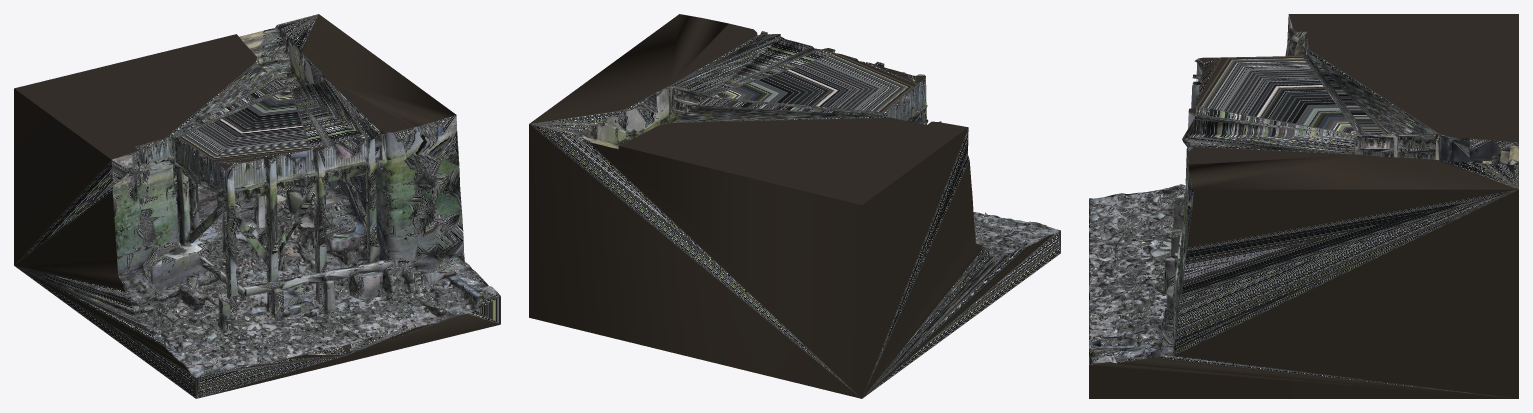
The model's file is w1_stairs.glb.
3 views of the same model, side by side, from view 1: azimuth 30°, elevation 25°; view 2: azimuth 150°, elevation 25°; view 3: azimuth 270°, elevation 25° (orthographic). The views are drawn at different scales.
Visible parts, largest first — view 1: stairs; view 2: stairs; view 3: stairs.
Part boxes in pixels (x1,y1,x2,y2): stairs: (14,14,500,398); stairs: (529,14,1060,398); stairs: (1089,14,1518,398).
Size of the model in its own units: 12.51 by 6.96 by 12.94.
1 material, 1 textured.
